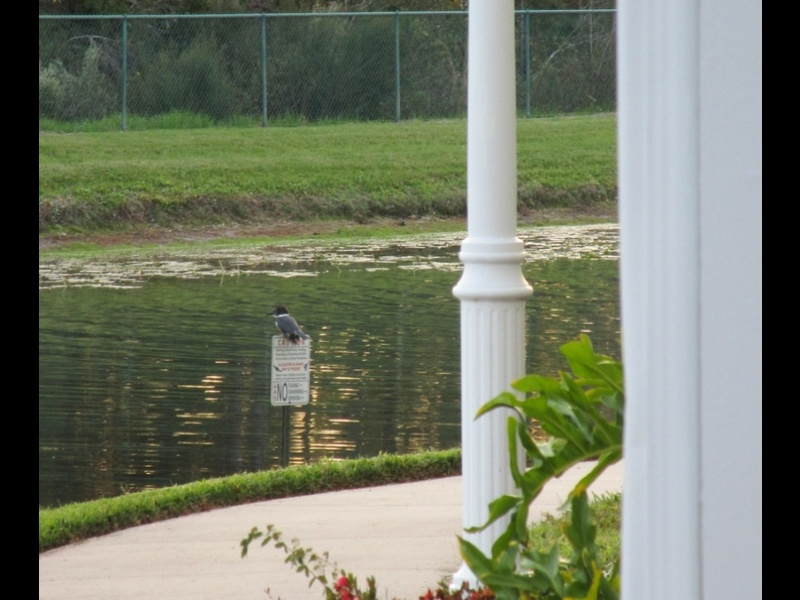kingfisher: (270, 305, 309, 346)
